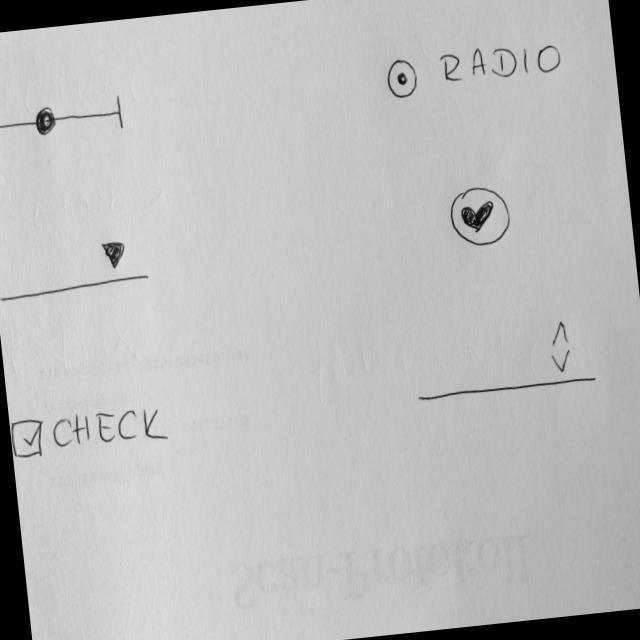checkbox: (10, 399, 174, 463)
icon-button: (447, 181, 515, 252)
number-input: (410, 311, 601, 406)
radio: (384, 36, 567, 102)
select: (1, 231, 154, 304)
slider: (1, 82, 127, 152)
